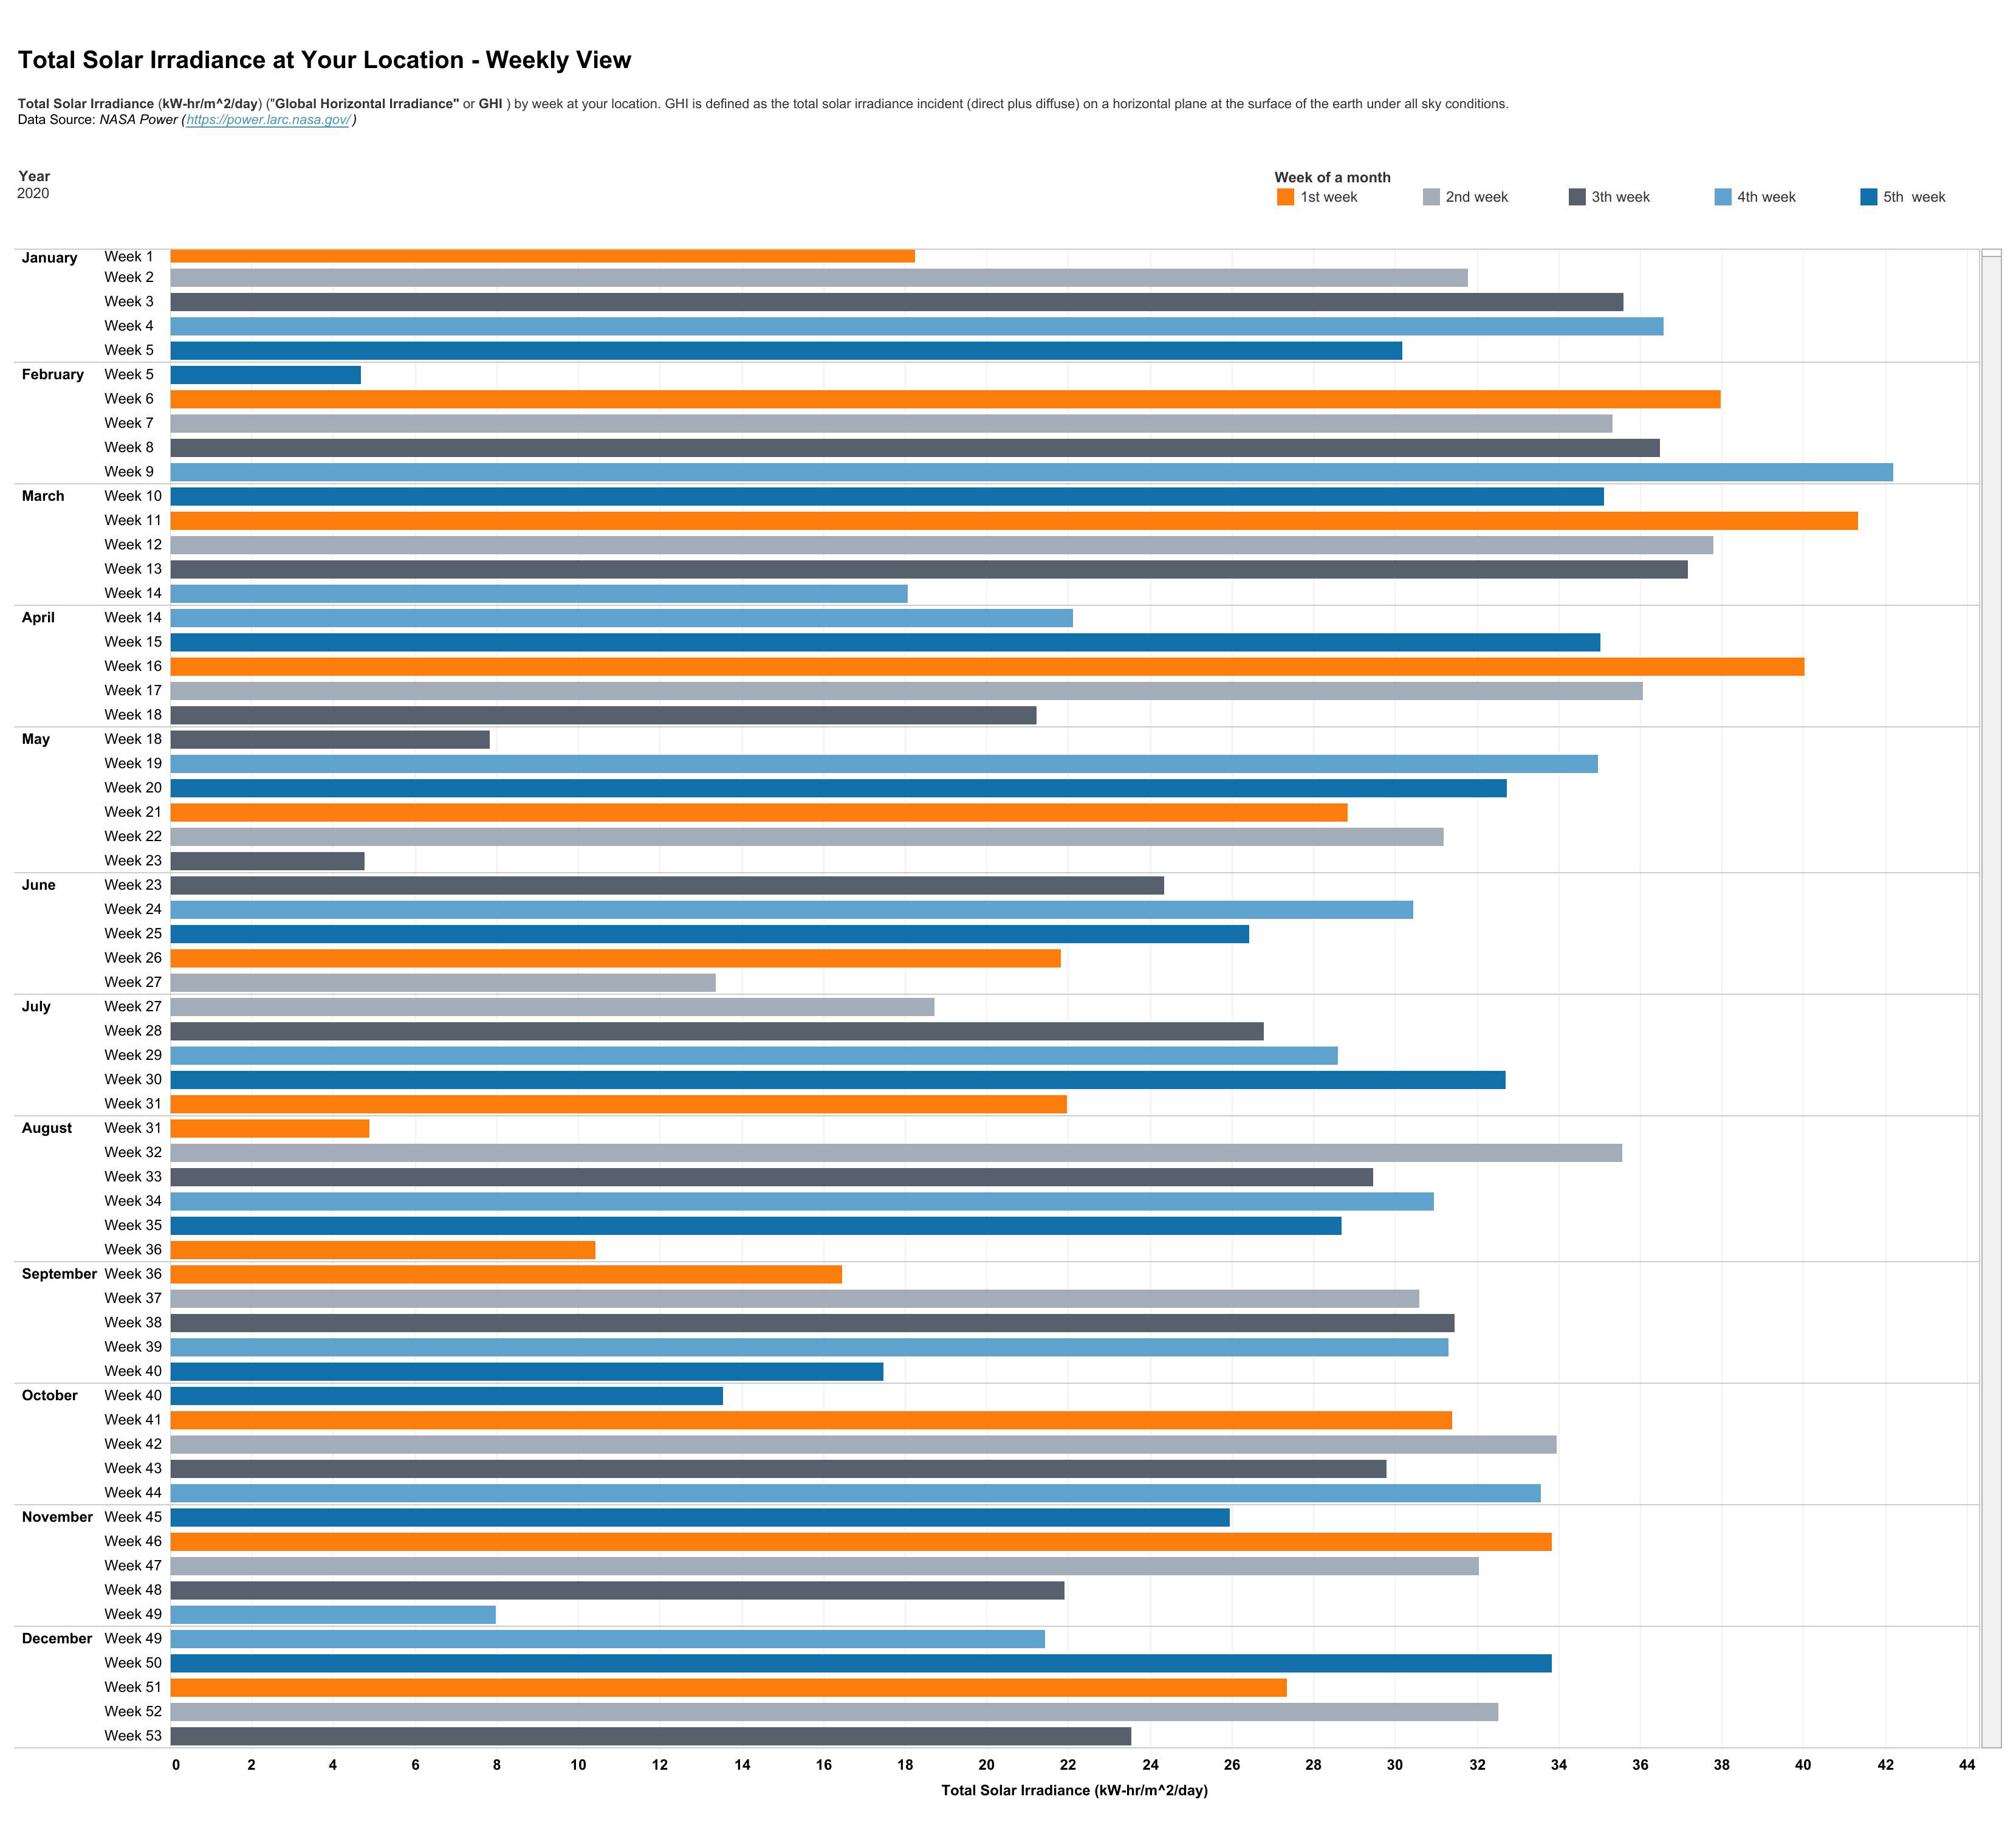

What the dashboard file says about the page in this screenshot:
{"tool":"tableau","page":{"name":"Irradiance Forecast by Week at Your Location Dashboard","canvas":[1000,1000],"units":"permille","ordinal":2},"visuals":[{"type":"text","box":[6.4,5.3,987.2,83.6]},{"type":"filter","title":"Solar Irradiance by Week","param":"[federated.1cith0t10ro7i01a2xngg15sbebr].[none:YEAR:ok]","box":[6.4,89,192.9,45.2]},{"type":"legend","title":"Solar Irradiance by Week","param":"[federated.1cith0t10ro7i01a2xngg15sbebr].[none:Calculation_154740892298665988:ok","box":[508.8,89,484.9,45.2]},{"type":"worksheet","title":"Solar Irradiance by Week","mark":"Bar","rows":["Calculation_154740892082806787","Calculation_154740892082806787"],"cols":["Pivot Field Values"],"box":[6.4,134.2,987.2,860.5]}]}

Visuals, with their boxes on the dashboard's canvas, which has no fixed pixel size, in thousandths of its width and height (x1, y1, x2, y2). These are canvas units, not pixel positions in the 2016x1822 screenshot, which may show the page scaled, cropped or inside an application window:
text: bbox=[6, 5, 994, 89]
"Solar Irradiance by Week" filter: bbox=[6, 89, 199, 134]
"Solar Irradiance by Week" legend: bbox=[509, 89, 994, 134]
"Solar Irradiance by Week" worksheet (Bar marks): bbox=[6, 134, 994, 995]
